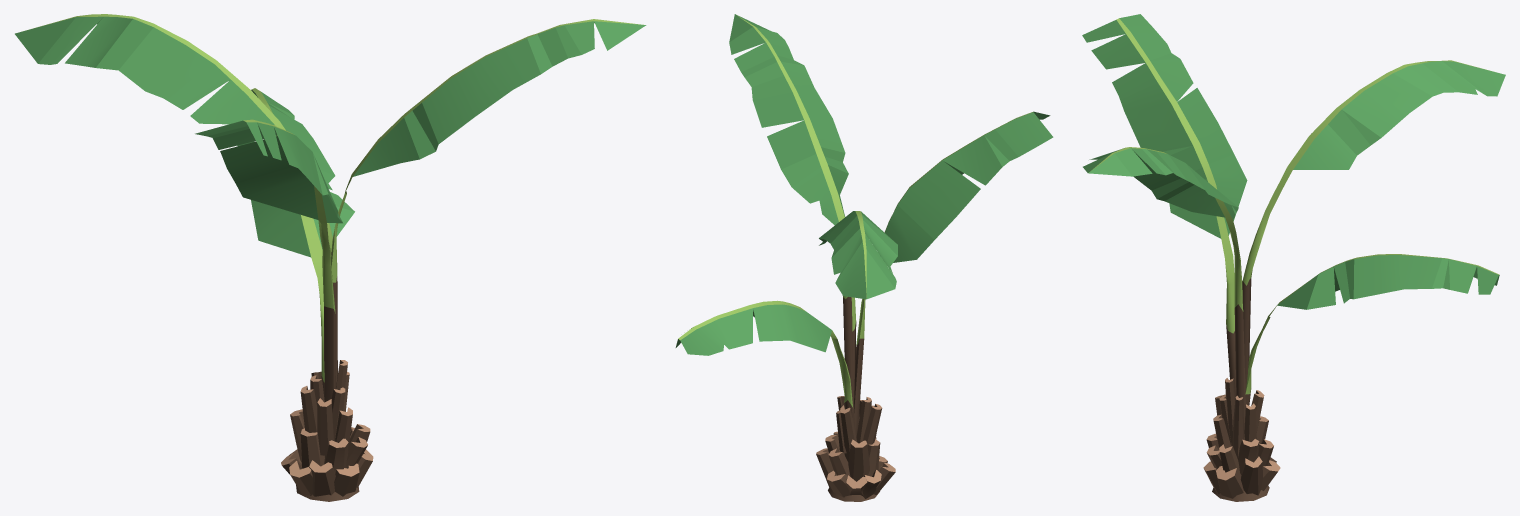
Rendered from plant_banana_B.fbx.
3 renders of one model, left to right at view 1: azimuth 30°, elevation 25°; view 2: azimuth 150°, elevation 25°; view 3: azimuth 270°, elevation 25°, orthographic. The views are drawn at different scales.
Visible parts, largest first — view 1: plant_banana_leaves, plant_banana_trunk; view 2: plant_banana_leaves, plant_banana_trunk; view 3: plant_banana_leaves, plant_banana_trunk.
Part boxes in pixels (x1,y1,x2,y2): plant_banana_leaves: [15, 14, 646, 401]; plant_banana_trunk: [281, 360, 373, 501]; plant_banana_leaves: [675, 14, 1053, 454]; plant_banana_trunk: [816, 396, 895, 501]; plant_banana_leaves: [1082, 14, 1505, 440]; plant_banana_trunk: [1203, 378, 1280, 501].
Bounding box in the file's own units: 184 × 197 × 179.
